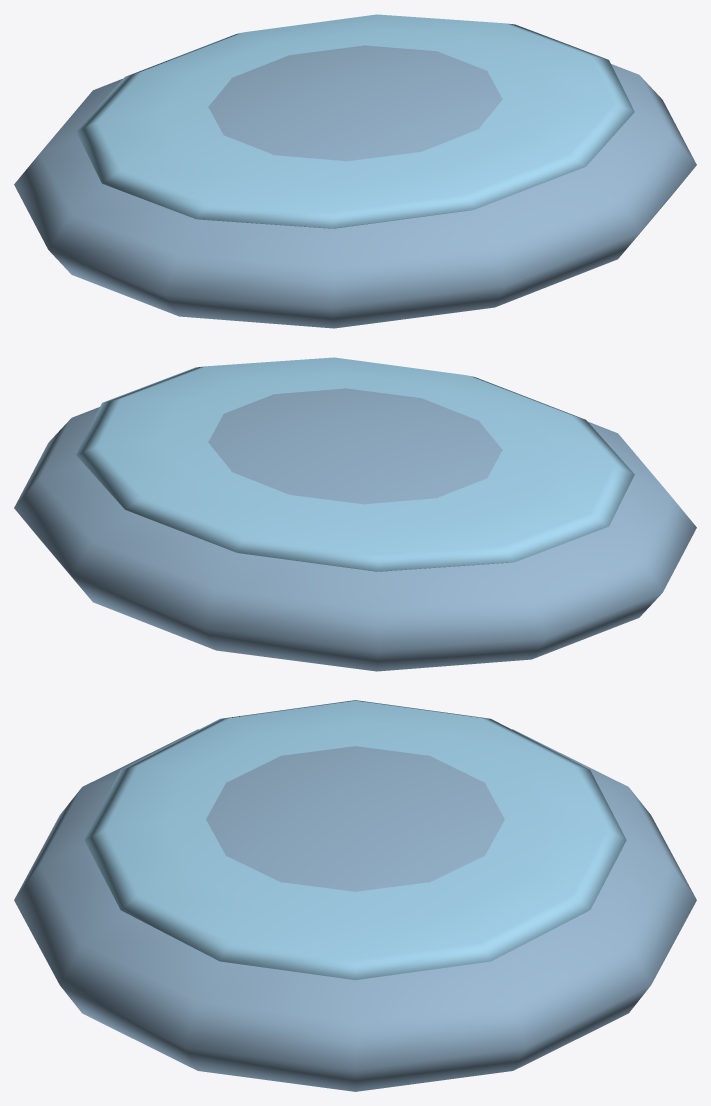
Rendered from reptiles-amphibians-and-minibeasts-water-dish-978437f1__22463.glb.
3 renders of one model, top to bottom at view 1: azimuth 30°, elevation 25°; view 2: azimuth 150°, elevation 25°; view 3: azimuth 270°, elevation 25°, orthographic. The views are drawn at different scales.
Parts seen in each view (by area): view 1: water-dish; view 2: water-dish; view 3: water-dish.
Part boxes in pixels (bbox=[...]): water-dish: bbox=[14, 14, 696, 328]; water-dish: bbox=[14, 357, 696, 671]; water-dish: bbox=[14, 700, 696, 1091].
Size of the model in its own units: 0.4706 by 0.1177 by 0.4.
